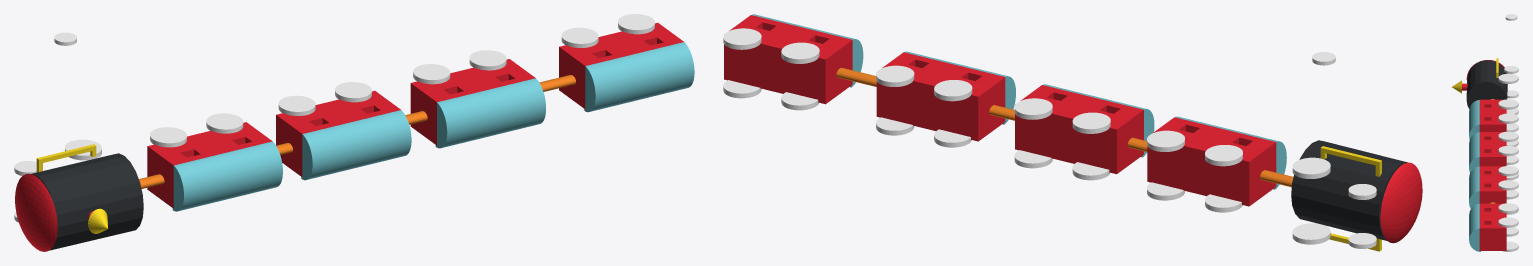
File: tinker.obj
The picture shows the model from 3 angles, left to right: view 1: azimuth 30°, elevation 25°; view 2: azimuth 150°, elevation 25°; view 3: azimuth 270°, elevation 25°; orthographic projection. The views are drawn at different scales.
Parts seen in each view (by area): view 1: group_0_7720667, group_0_15277357, group_0_2829873, group_0_16448250, group_0_16089887, group_0_16768282; view 2: group_0_15277357, group_0_16448250, group_0_2829873, group_0_7720667, group_0_16089887, group_0_16768282; view 3: group_0_15277357, group_0_16448250, group_0_7720667, group_0_2829873, group_0_16768282.
Boxes of the visible parts, x1,y1,x2,y2 form: group_0_7720667: (172, 42, 694, 211); group_0_15277357: (15, 22, 683, 251); group_0_2829873: (31, 153, 143, 250); group_0_16448250: (14, 14, 654, 222); group_0_16089887: (139, 75, 575, 188); group_0_16768282: (36, 144, 107, 233); group_0_15277357: (724, 15, 1422, 243); group_0_16448250: (723, 28, 1376, 248); group_0_2829873: (1291, 140, 1407, 240); group_0_7720667: (752, 14, 1286, 189); group_0_16089887: (836, 67, 1293, 187); group_0_16768282: (1320, 146, 1381, 251); group_0_15277357: (1462, 60, 1507, 250); group_0_16448250: (1498, 14, 1518, 251); group_0_7720667: (1469, 100, 1480, 251); group_0_2829873: (1466, 60, 1507, 108); group_0_16768282: (1452, 58, 1498, 93).
Size of the model in its own units: 328 by 91 by 57.
